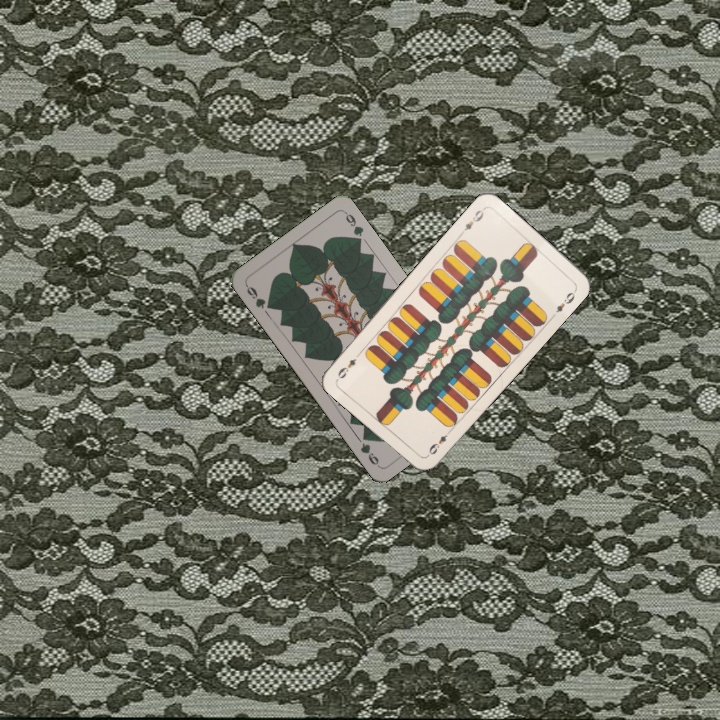E9: (456, 204, 487, 238), (423, 426, 454, 460)
G9: (242, 280, 275, 312)
